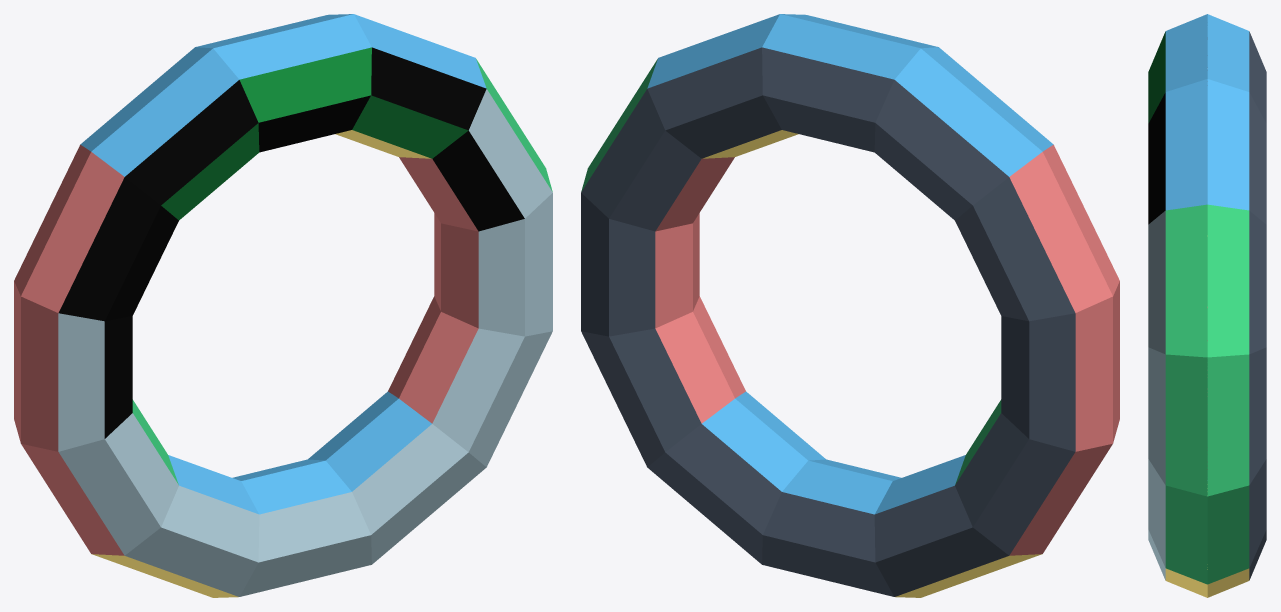
File: donut.glb
3 renders of one model, left to right at view 1: azimuth 30°, elevation 25°; view 2: azimuth 150°, elevation 25°; view 3: azimuth 270°, elevation 25°, orthographic. The views are drawn at different scales.
Parts seen in each view (by area): view 1: torus; view 2: torus; view 3: torus.
Boxes of the visible parts, left/top/right/bottom form: torus: left=14, top=14, right=552, bottom=597; torus: left=581, top=14, right=1119, bottom=597; torus: left=1148, top=14, right=1266, bottom=597.
Size of the model in its own units: 0.7875 by 0.7875 by 0.1631.
1 material, 1 textured.
